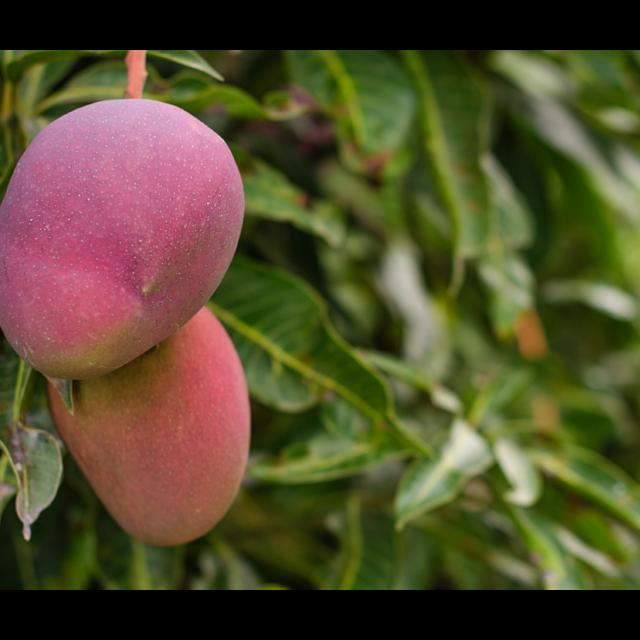mango: (0, 99, 251, 379), (45, 300, 253, 552)
